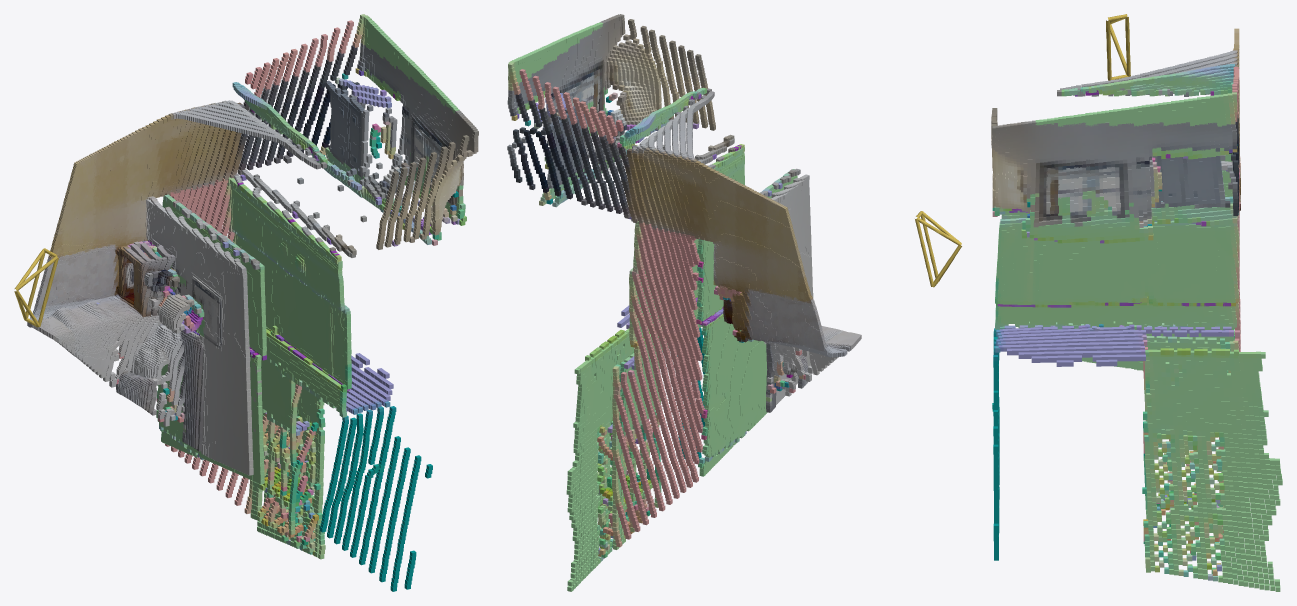
3 renders of one model, left to right at view 1: azimuth 30°, elevation 25°; view 2: azimuth 150°, elevation 25°; view 3: azimuth 270°, elevation 25°, orthographic. The views are drawn at different scales.
Size of the model in its own units: 5.08 by 6.01 by 2.94.
